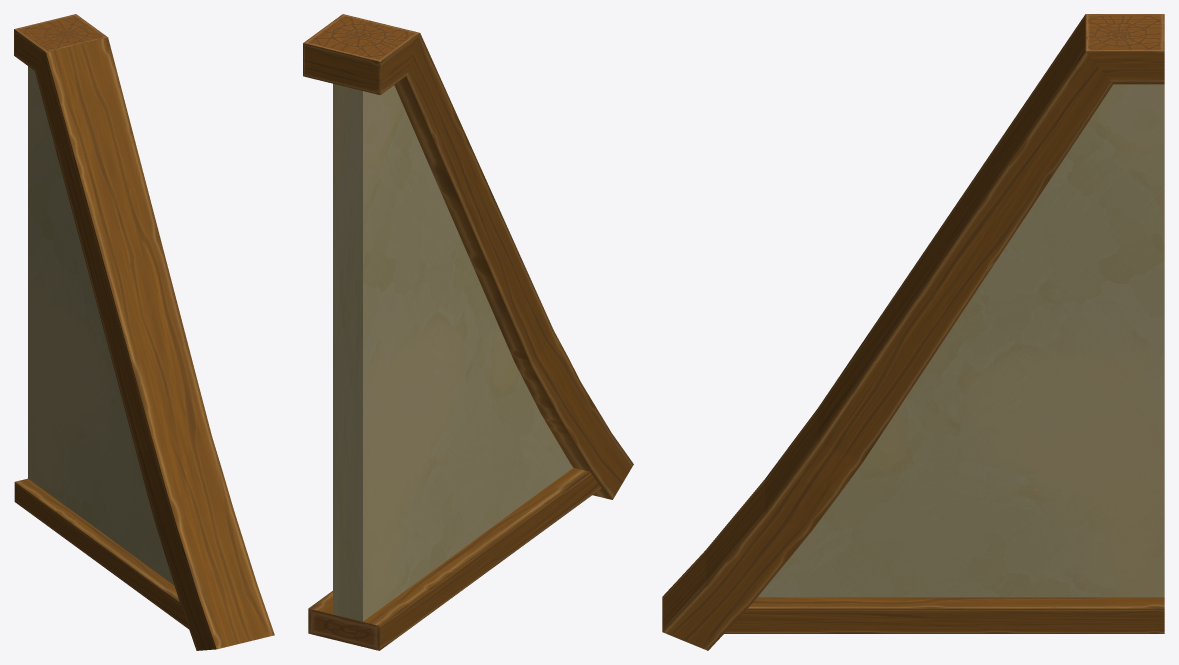
Rendered from SM_House_Roof_01_WallBottom_Extended_01.fbx.
3 views of the same model, side by side, from view 1: azimuth 30°, elevation 25°; view 2: azimuth 150°, elevation 25°; view 3: azimuth 270°, elevation 25° (orthographic). The views are drawn at different scales.
Visible parts, largest first — view 1: SM_House_Roof_01_WallBottom_Extended_01; view 2: SM_House_Roof_01_WallBottom_Extended_01; view 3: SM_House_Roof_01_WallBottom_Extended_01.
Boxes of the visible parts, box(x1,y1,x2,y2) form: SM_House_Roof_01_WallBottom_Extended_01: box(14, 14, 274, 650); SM_House_Roof_01_WallBottom_Extended_01: box(303, 14, 633, 650); SM_House_Roof_01_WallBottom_Extended_01: box(662, 14, 1164, 650).
Size of the model in its own units: 0.4251 by 3.08 by 2.33.
